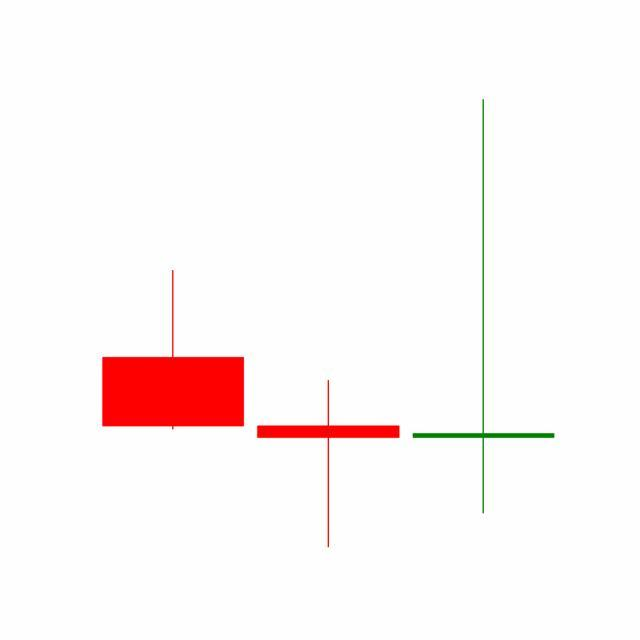Spinning Top: (250, 378, 407, 550)
